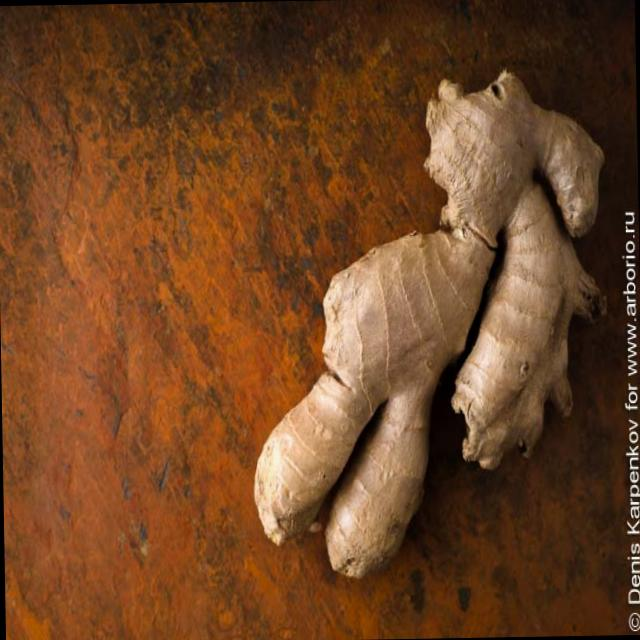ginger-root: (242, 64, 624, 595)
